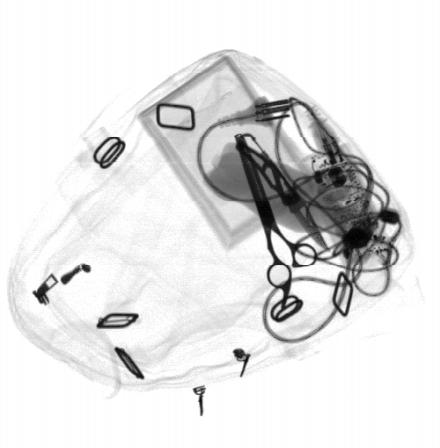Knife: (237, 132, 331, 253)
Scissors: (232, 131, 318, 312)
